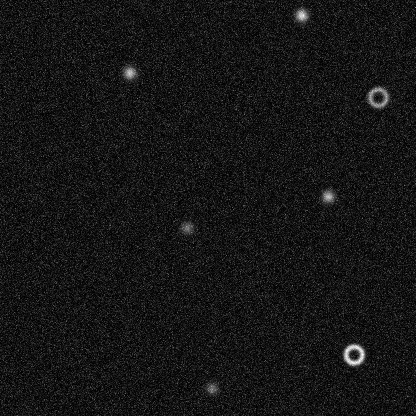Ring: (365, 85, 389, 109), (341, 342, 365, 366)
Spot: (319, 188, 335, 204), (121, 64, 137, 80), (203, 380, 219, 396), (293, 7, 309, 23), (178, 219, 194, 235)
